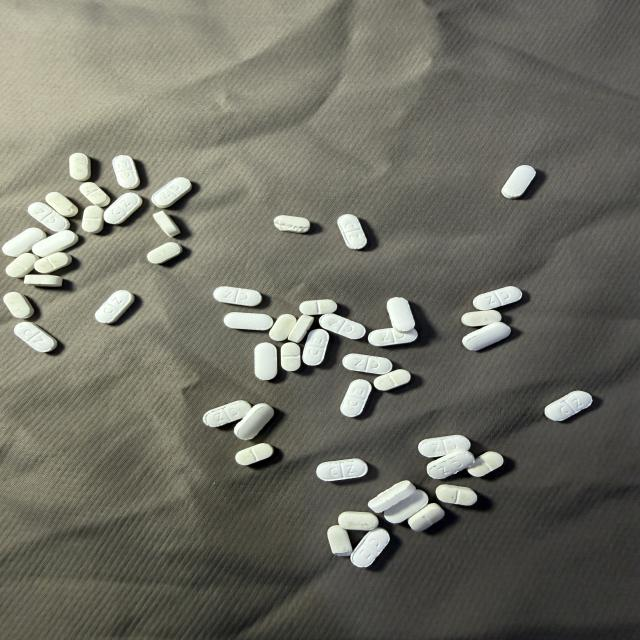pill: (368, 454, 472, 513), (351, 528, 390, 567), (544, 391, 593, 422), (384, 490, 428, 523), (427, 450, 474, 480), (462, 322, 511, 350), (235, 404, 274, 439), (14, 322, 57, 352), (95, 290, 134, 323), (2, 228, 46, 257), (28, 202, 70, 232), (203, 401, 251, 427), (32, 230, 78, 257), (152, 177, 191, 208), (104, 193, 142, 224), (473, 286, 522, 310), (319, 314, 365, 339), (418, 435, 470, 457), (341, 379, 371, 417), (316, 459, 367, 481), (502, 166, 535, 198), (338, 214, 366, 249), (343, 354, 392, 374), (408, 504, 444, 531), (387, 297, 414, 332), (303, 329, 329, 365), (213, 287, 262, 306), (112, 155, 140, 188), (467, 452, 503, 477), (368, 328, 417, 346), (436, 485, 477, 506), (224, 313, 273, 330), (45, 192, 78, 217), (255, 343, 277, 380), (236, 443, 273, 465), (34, 252, 72, 273), (147, 242, 183, 264), (4, 292, 33, 319), (79, 182, 110, 207), (6, 253, 38, 277), (328, 525, 352, 556), (374, 370, 410, 390), (338, 512, 378, 530), (270, 314, 296, 341), (153, 211, 180, 236), (288, 315, 313, 342), (81, 205, 104, 234), (274, 215, 310, 233), (461, 310, 501, 326), (300, 299, 337, 315), (281, 342, 301, 371), (69, 153, 90, 180), (24, 275, 62, 287)
